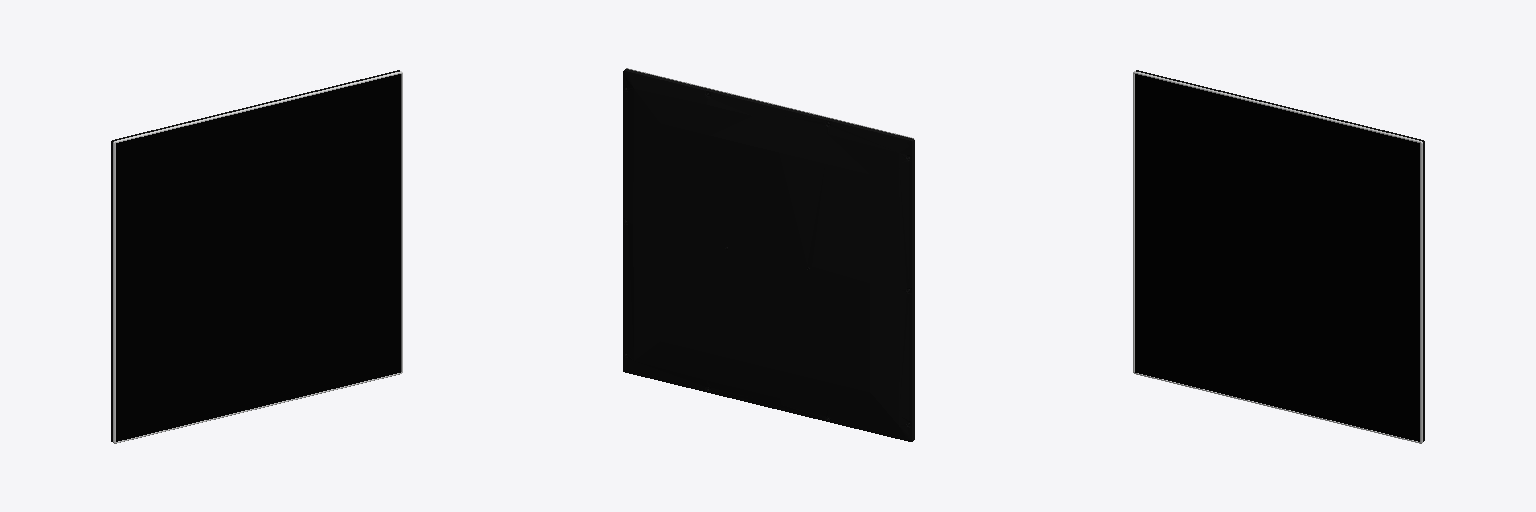
3 renders of one model, left to right at view 1: azimuth 30°, elevation 25°; view 2: azimuth 150°, elevation 25°; view 3: azimuth 330°, elevation 25°, orthographic.
Visible parts, largest first — view 1: MediaCenterQuad; view 2: MediaCenterQuad; view 3: MediaCenterQuad.
Boxes of the visible parts, box(x1,y1,x2,y2) form: MediaCenterQuad: box(111, 70, 402, 443); MediaCenterQuad: box(623, 68, 914, 441); MediaCenterQuad: box(1133, 70, 1424, 443).
Size of the model in its own units: 1.01 by 1.01 by 0.0329.
3 materials, 1 textured.